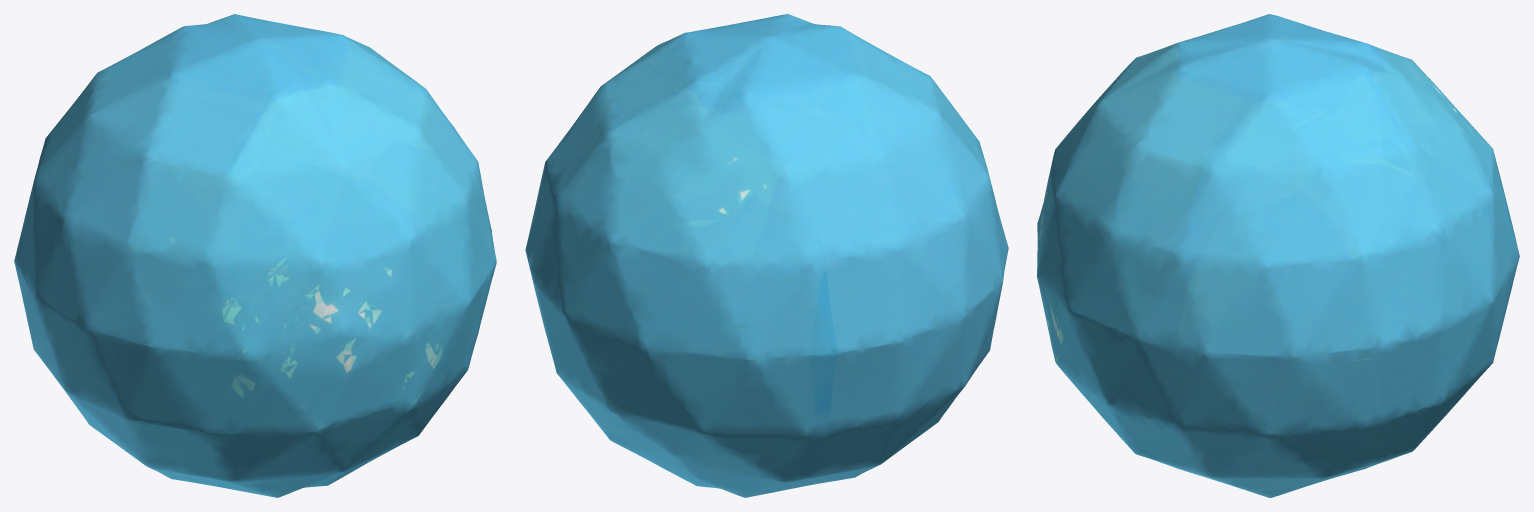
The model's file is SpeedBubble.glb.
3 views of the same model, side by side, from view 1: azimuth 30°, elevation 25°; view 2: azimuth 150°, elevation 25°; view 3: azimuth 270°, elevation 25° (orthographic).
Bounding box in the file's own units: 2 × 1.99 × 2.
1 material, 1 textured.
